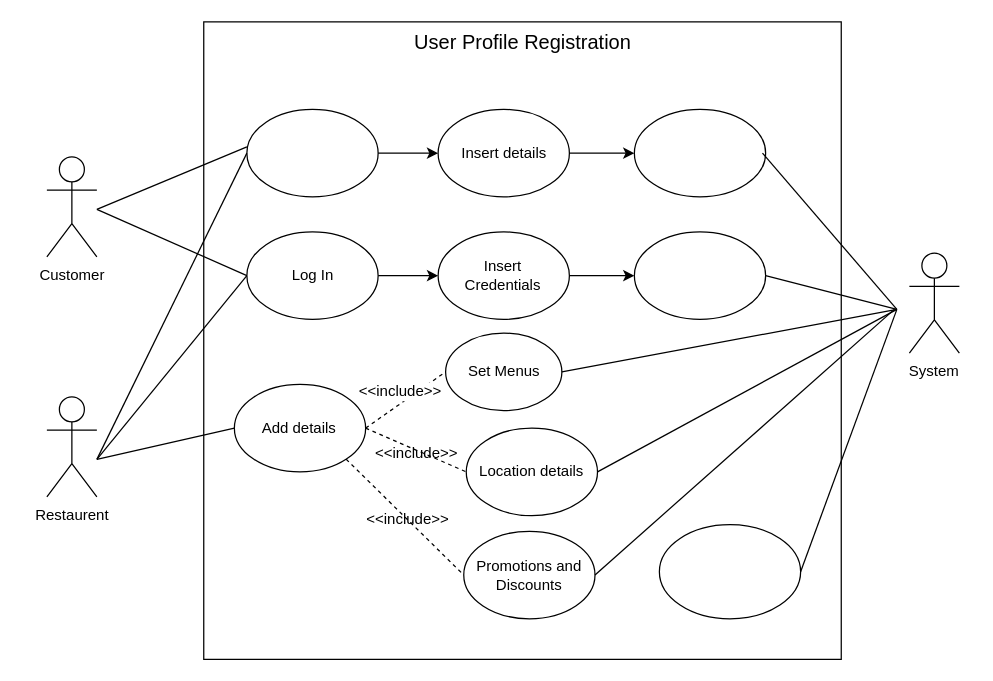
This 993x681 diagram has some shape labels left out. Here are the shapes that lost their labels. From the top down, the centre of each, then its label:
the point at 312,152: Create Account
the point at 699,152: Verify details
the point at 699,275: Validate Credentials
the point at 729,571: Delete User
